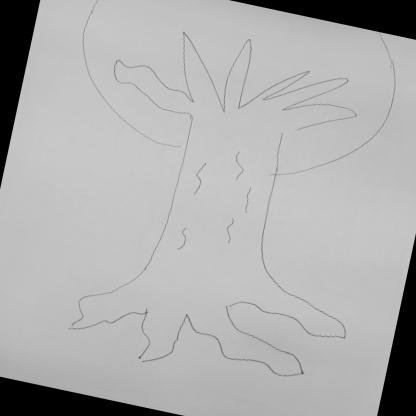branch_sharp: (107, 12, 368, 157)
crown_mushroom: (61, 0, 407, 197)
root_only: (64, 232, 356, 403)
trunk_bark: (146, 158, 306, 288)
